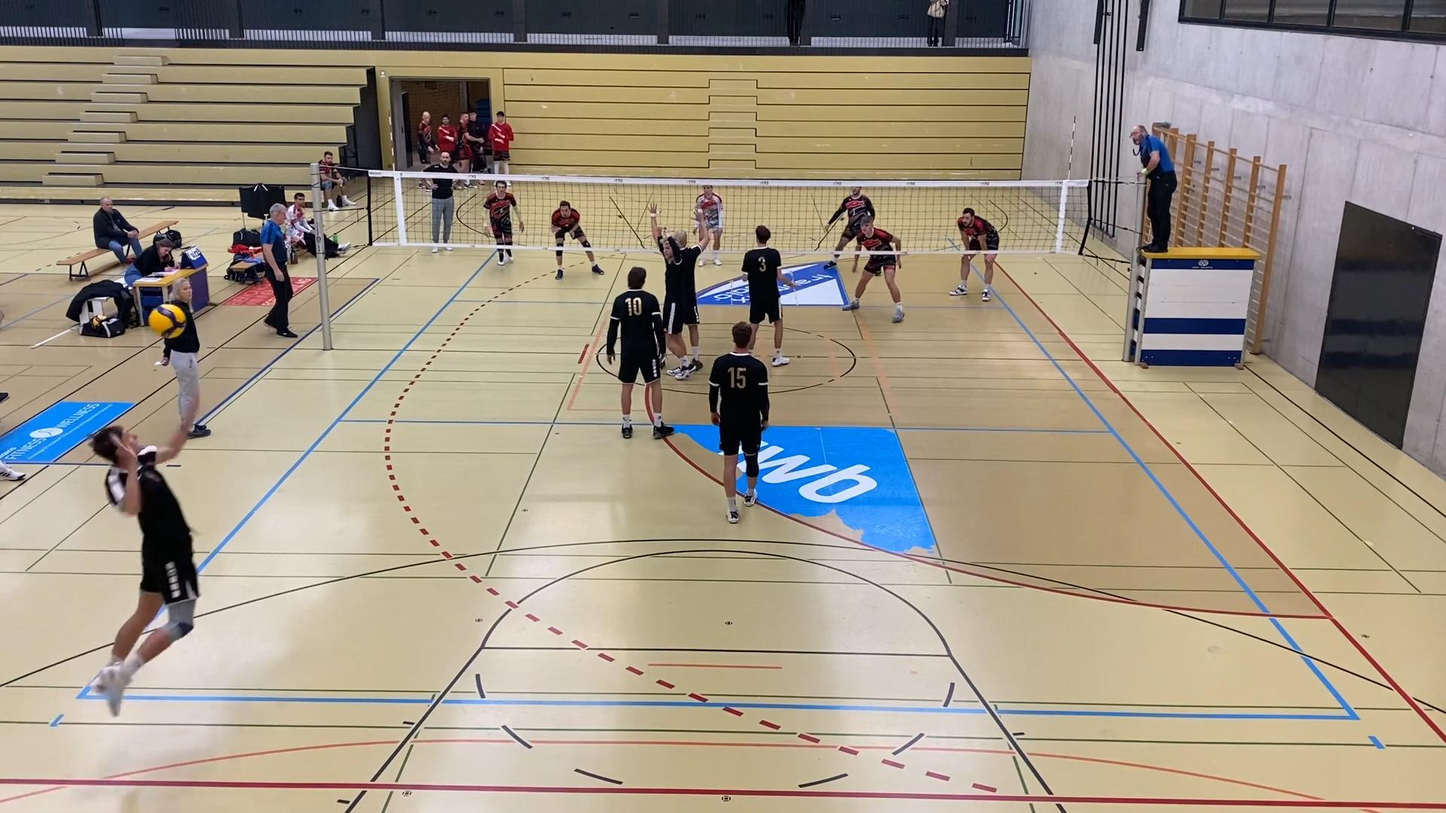Player: (709, 323, 769, 522), (606, 266, 673, 438), (648, 204, 708, 379), (743, 225, 795, 366), (842, 218, 904, 322), (950, 208, 999, 301), (551, 200, 603, 279), (825, 187, 875, 267), (484, 181, 524, 265), (694, 184, 723, 265)
Serve: (92, 381, 222, 718)
ball: (151, 305, 186, 337)
